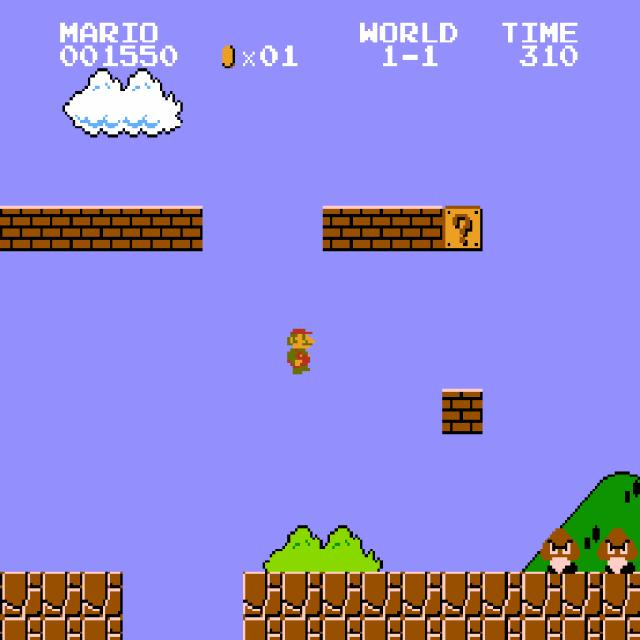brick_block: (2, 206, 43, 251), (42, 206, 83, 251), (82, 206, 123, 251), (122, 206, 163, 251), (162, 206, 203, 251), (322, 206, 363, 251), (362, 206, 403, 251), (402, 206, 443, 251), (442, 389, 483, 434), (0, 205, 2, 251)
goomba: (595, 526, 638, 574), (538, 526, 580, 574)
little_mario: (277, 326, 320, 374)
mystery_block: (442, 206, 483, 251)
undestructible_block: (2, 572, 43, 617), (42, 572, 83, 617), (82, 572, 123, 617), (242, 572, 283, 617), (282, 572, 323, 617), (322, 572, 363, 617), (362, 572, 403, 617), (402, 572, 443, 617), (442, 572, 483, 617), (482, 572, 523, 617), (522, 572, 563, 617), (562, 572, 603, 617), (603, 572, 640, 617), (2, 617, 43, 640), (42, 617, 83, 640), (82, 617, 123, 640), (242, 617, 283, 640), (282, 617, 323, 640), (322, 617, 363, 640), (362, 617, 403, 640), (402, 617, 443, 640), (442, 617, 483, 640), (482, 617, 523, 640), (522, 617, 563, 640), (562, 617, 603, 640), (603, 617, 640, 640), (0, 571, 2, 617), (0, 617, 2, 639)
